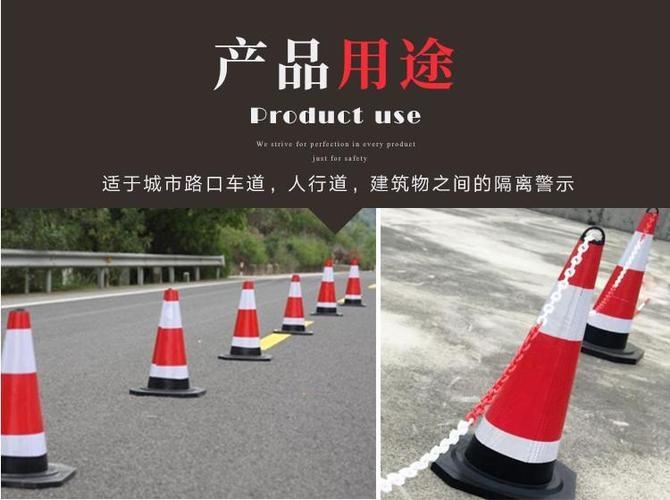cone_barrel: (443, 220, 613, 491), (587, 208, 662, 359), (137, 285, 199, 395), (221, 277, 268, 360), (277, 271, 308, 334), (312, 254, 339, 316), (340, 255, 363, 306)
